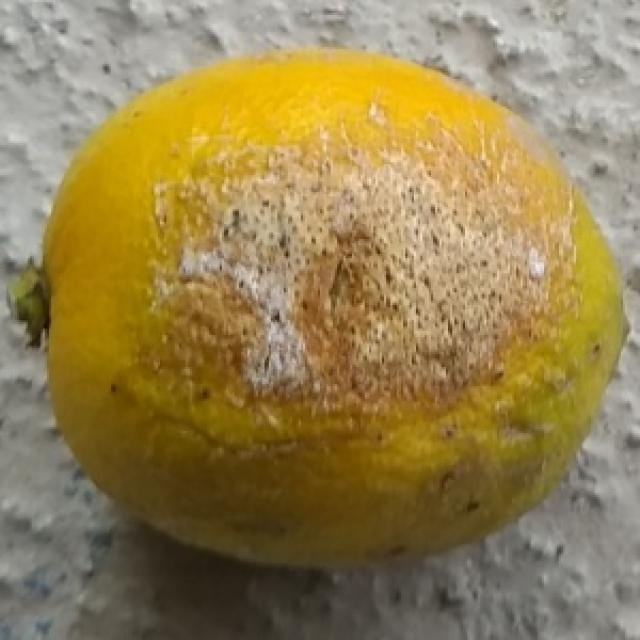overripe: (3, 39, 640, 576)
